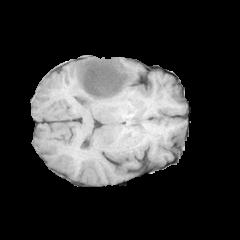glioma: (71, 57, 135, 106)
